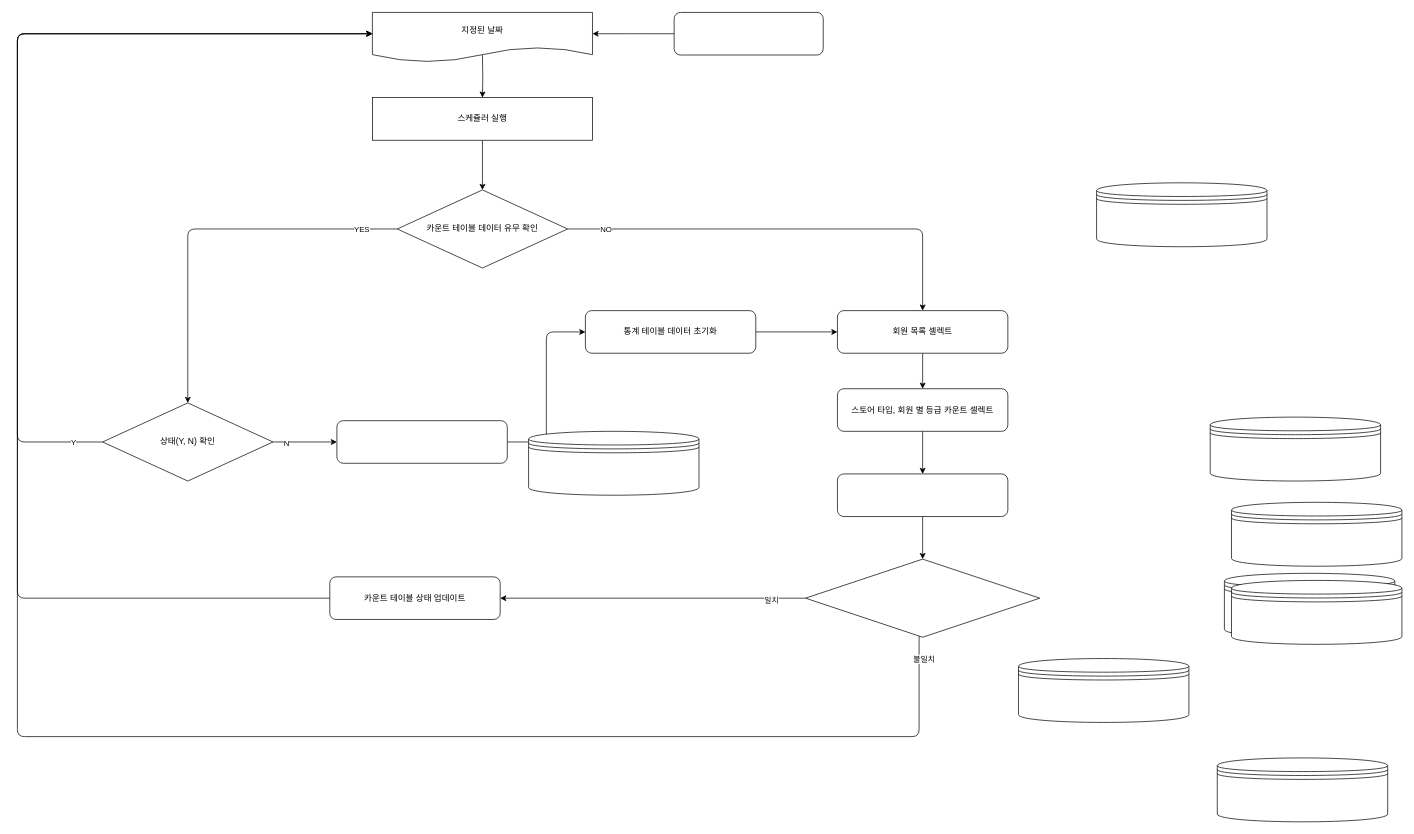
Image size: 1414x834. Some labels were removed from this diagram. The shapes that lost their labels are listed below. From the top down, each one's centre as x and y in pixels, then its label:
At [748,33]: "프로퍼티로 날짜 지정".
At [421,441]: "카운트(SEQ) 증가".
At [922,495]: "통계 테이블 인서트 (인서트 행 개수 반환)".
At [922,597]: "카운트 테이블 값, 인서트 완료 행 개수 비교".
